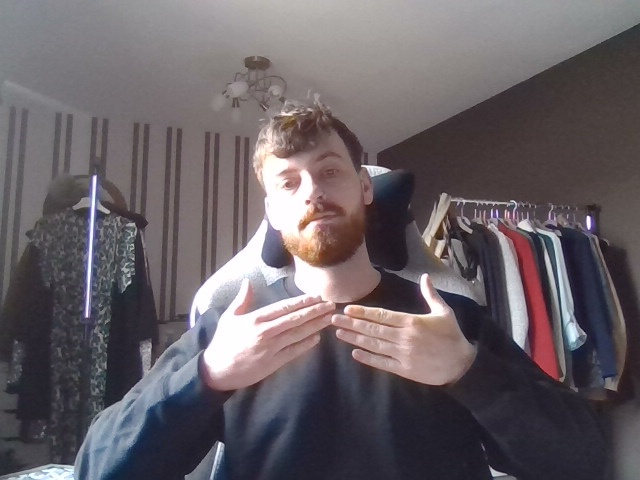Thanks: (199, 268, 478, 396)
